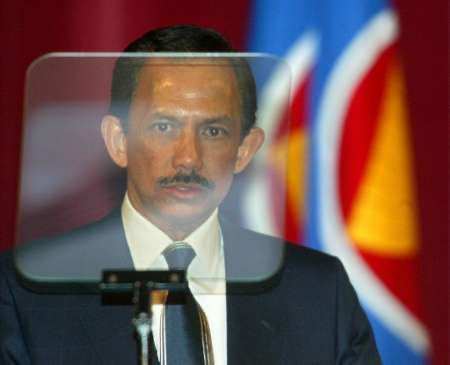Face: (110, 69, 257, 223)
